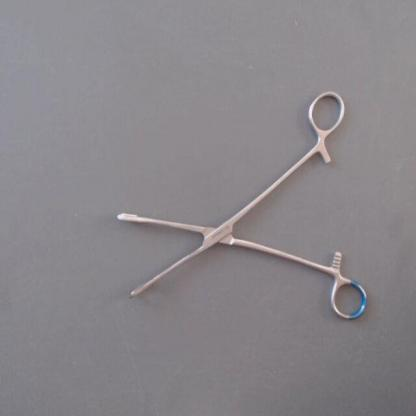Sponge Forceps: (107, 83, 375, 333)
